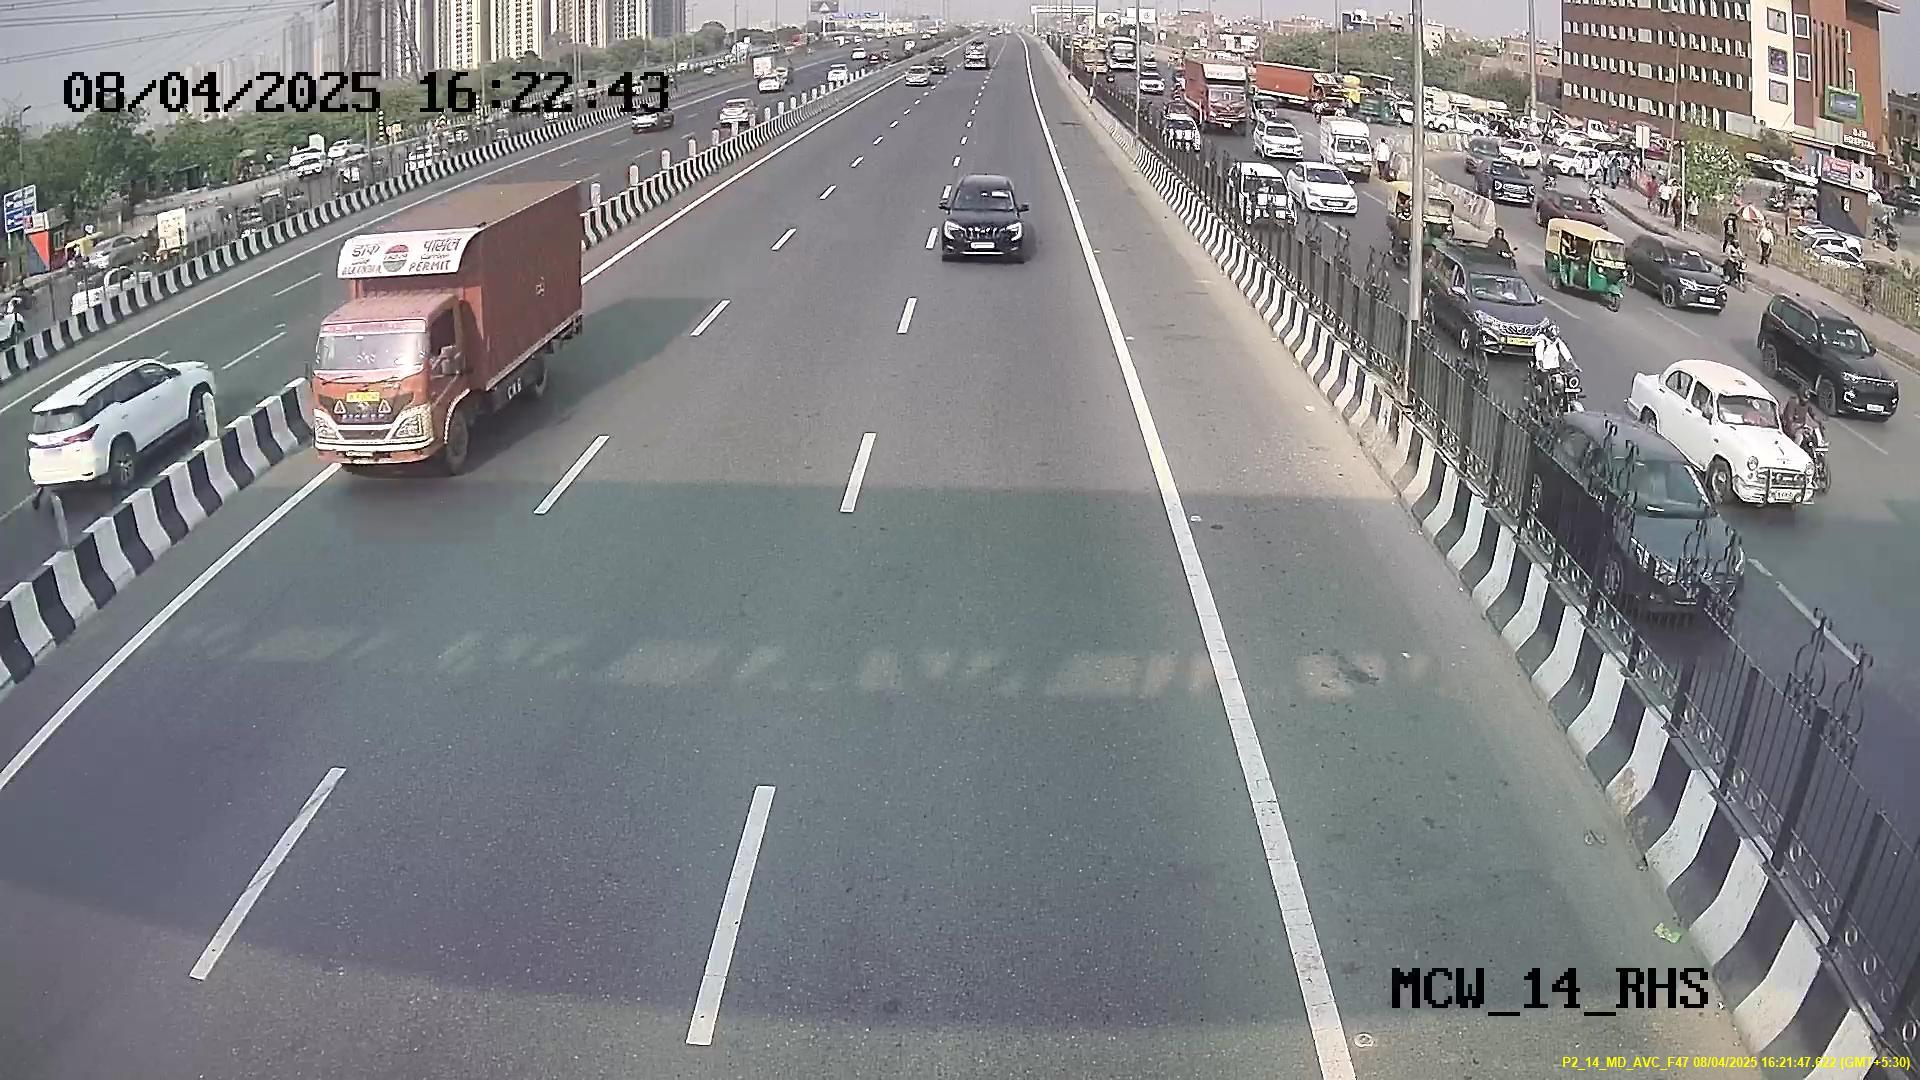car: (938, 178, 1030, 262)
lcv: (303, 291, 472, 476)
